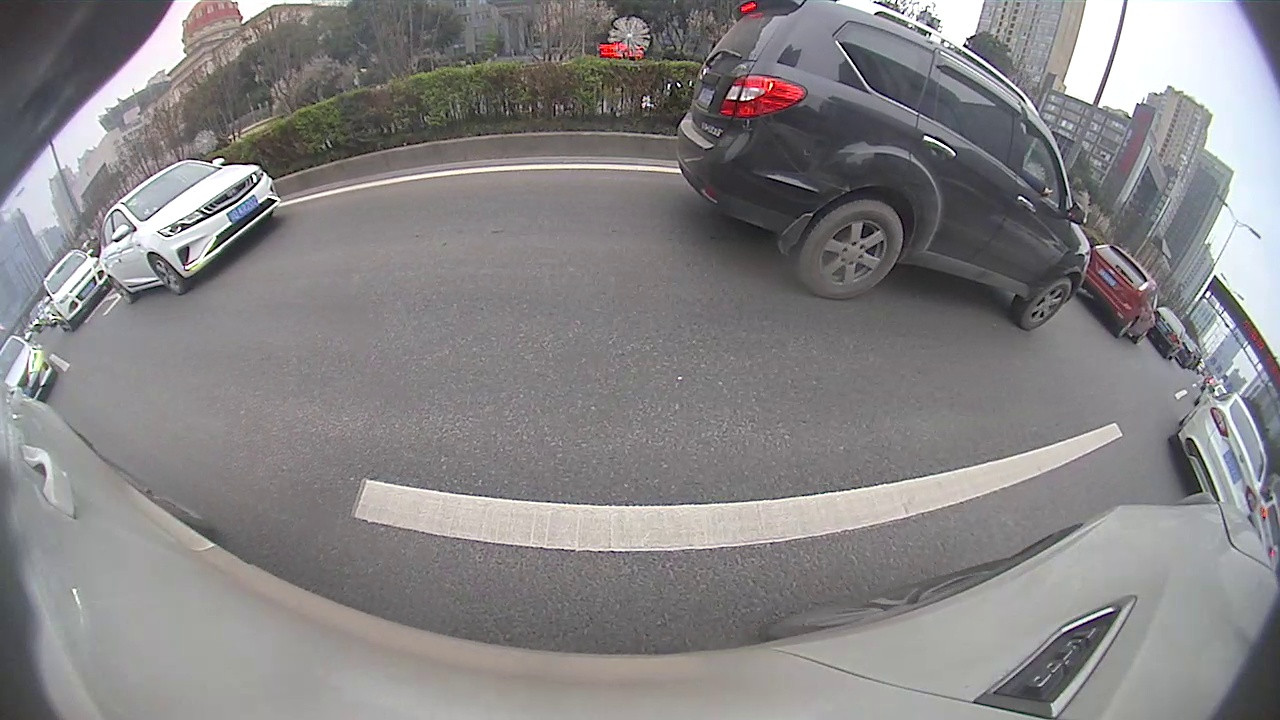car: (674, 1, 1091, 331), (98, 159, 284, 304), (1169, 390, 1269, 521), (1077, 244, 1160, 343), (40, 252, 112, 332), (0, 334, 59, 404), (1147, 306, 1190, 363)
front: (1018, 278, 1073, 332), (150, 252, 187, 295)
rear: (795, 199, 903, 302), (108, 276, 134, 304), (1116, 316, 1140, 339)
